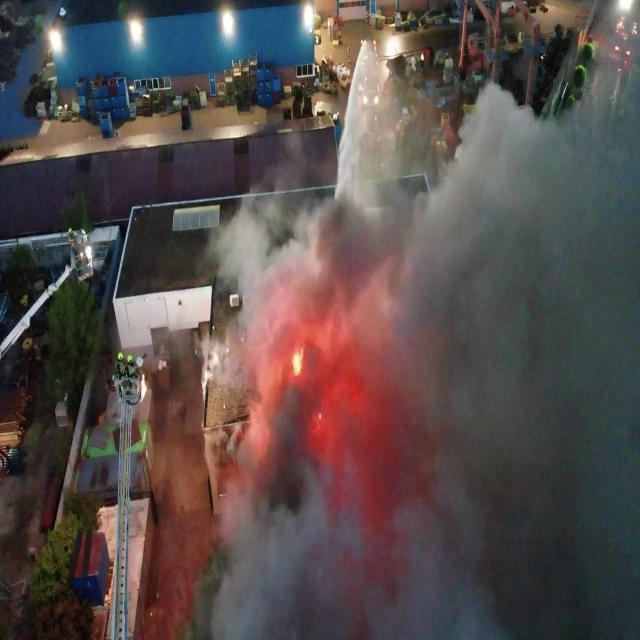Fire: (293, 348, 304, 376), (318, 412, 322, 420)
Smoke: (198, 0, 640, 640)
